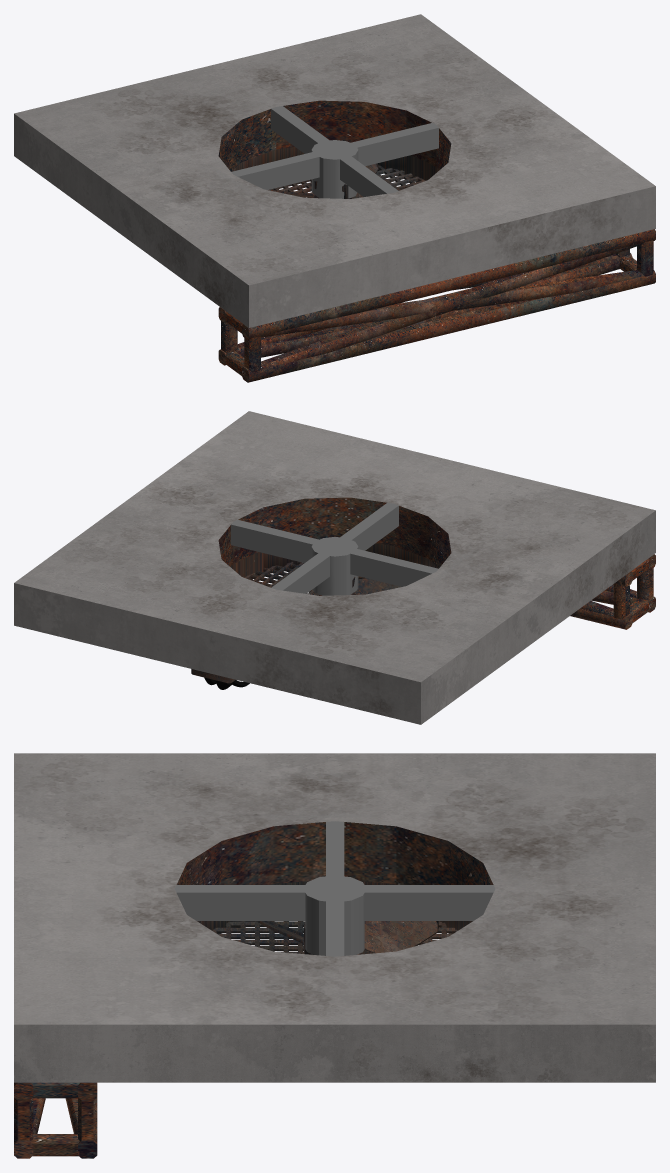
Rendered from fan.fbx.
3 renders of one model, top to bottom at view 1: azimuth 30°, elevation 25°; view 2: azimuth 150°, elevation 25°; view 3: azimuth 270°, elevation 25°, orthographic. The views are drawn at different scales.
Parts seen in each view (by area): view 1: Cube.014; view 2: Cube.014; view 3: Cube.014.
Part boxes in pixels (box(x1,y1,x2,y2)): Cube.014: box(14, 14, 655, 382); Cube.014: box(14, 411, 655, 724); Cube.014: box(14, 753, 655, 1158).
Bounding box in the file's own units: 400 × 92.3 × 400.
